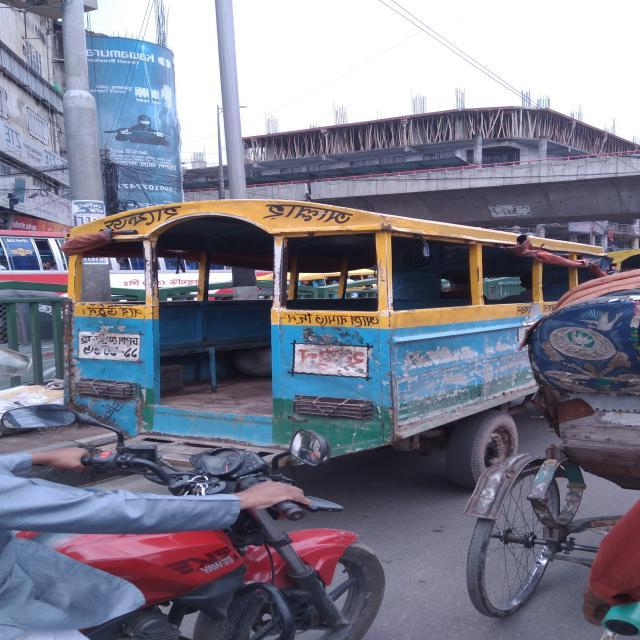CNG: (1, 268, 110, 446)
Leguna: (38, 194, 623, 507)
Motorbike: (1, 398, 408, 640)
Rickshaw: (389, 255, 640, 640)
